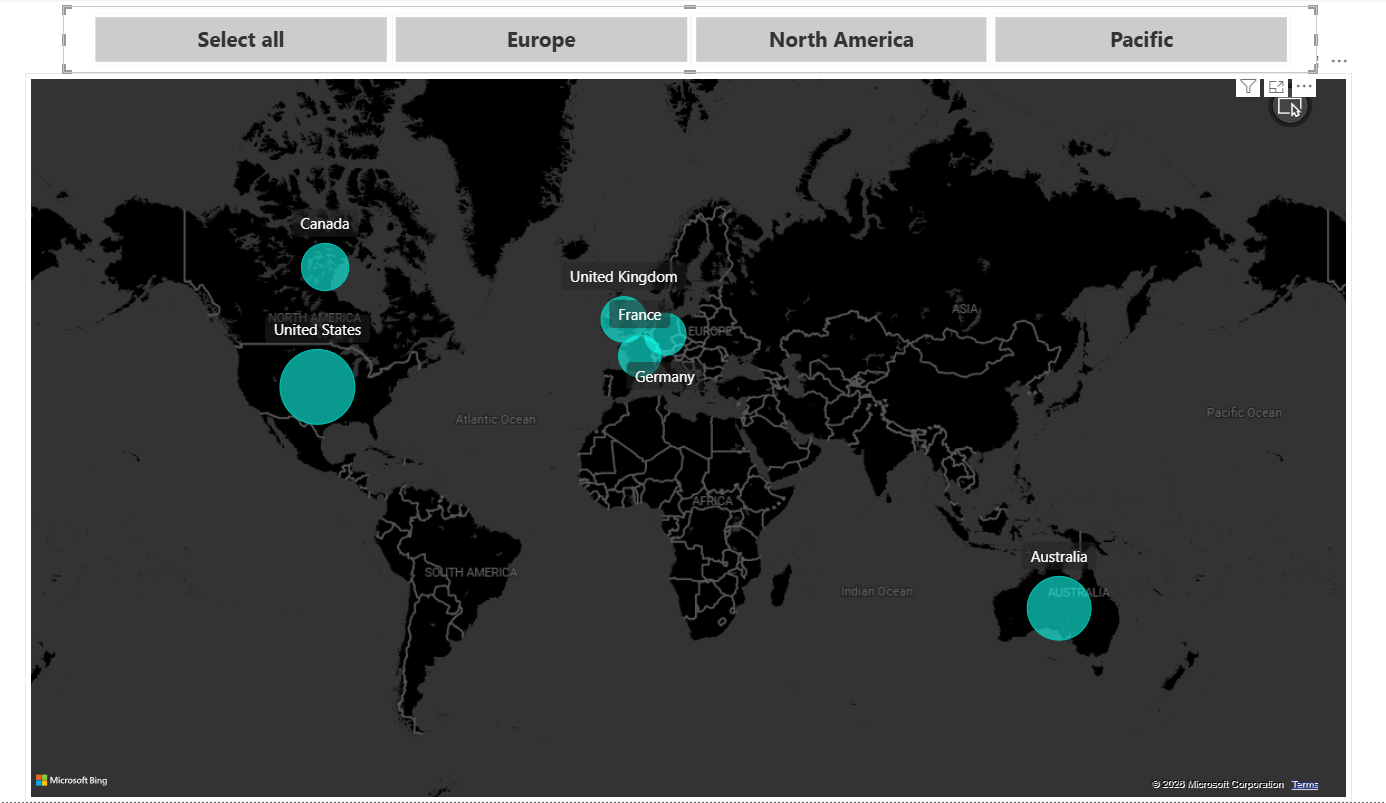

This screenshot's page, from the dashboard's own definition file:
{"tool":"powerbi","page":{"name":"Map","canvas":[1280,720],"ordinal":1},"visuals":[{"type":"shape","box":[0,0,39.2,720.3],"z":0},{"type":"map","fields":{"Category":["Territory Lookup.Country"],"Size":["MeasureTable.Total_orders"]},"box":[62.2,67.2,1188,653.1],"z":1},{"type":"slicer","fields":{"Values":["Territory Lookup.Continent"]},"box":[95.8,7.5,1123.3,59.7],"z":2}]}

Visuals, with their boxes in screenshot pixels (x1, y1, x2, y2), scaled from the page's 1280x720 canvas onto the 1386x803 screenshot:
shape: box=[0, 0, 42, 802]
map - Territory Lookup.Country x MeasureTable.Total_orders: box=[67, 75, 1354, 802]
slicer - Territory Lookup.Continent: box=[104, 8, 1320, 75]
